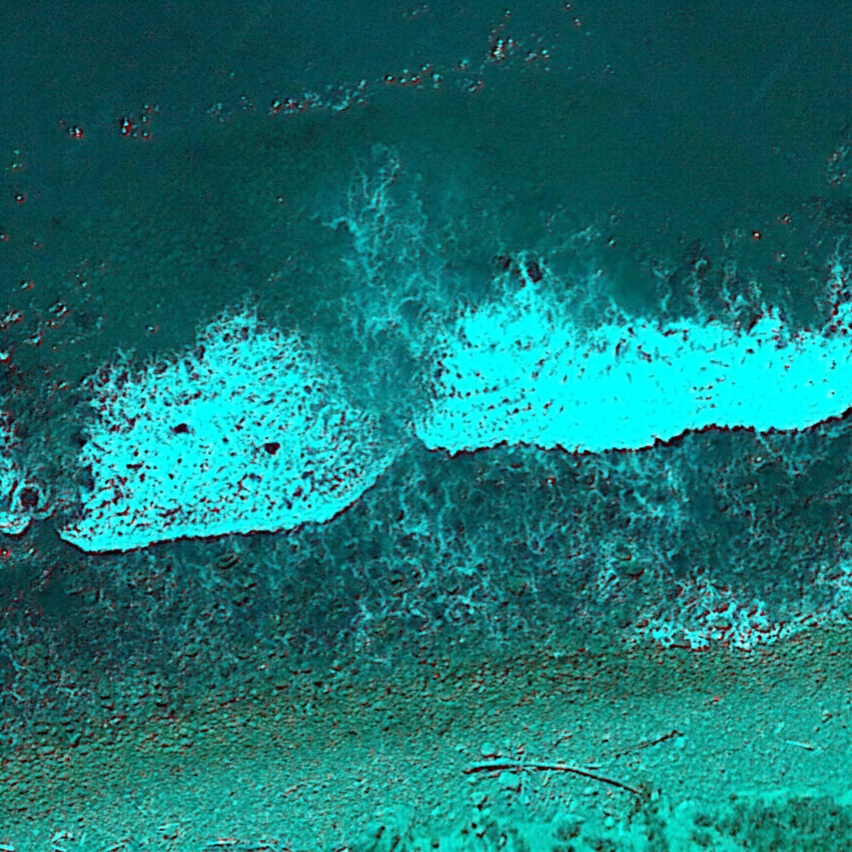rip_current: (251, 172, 519, 451)
